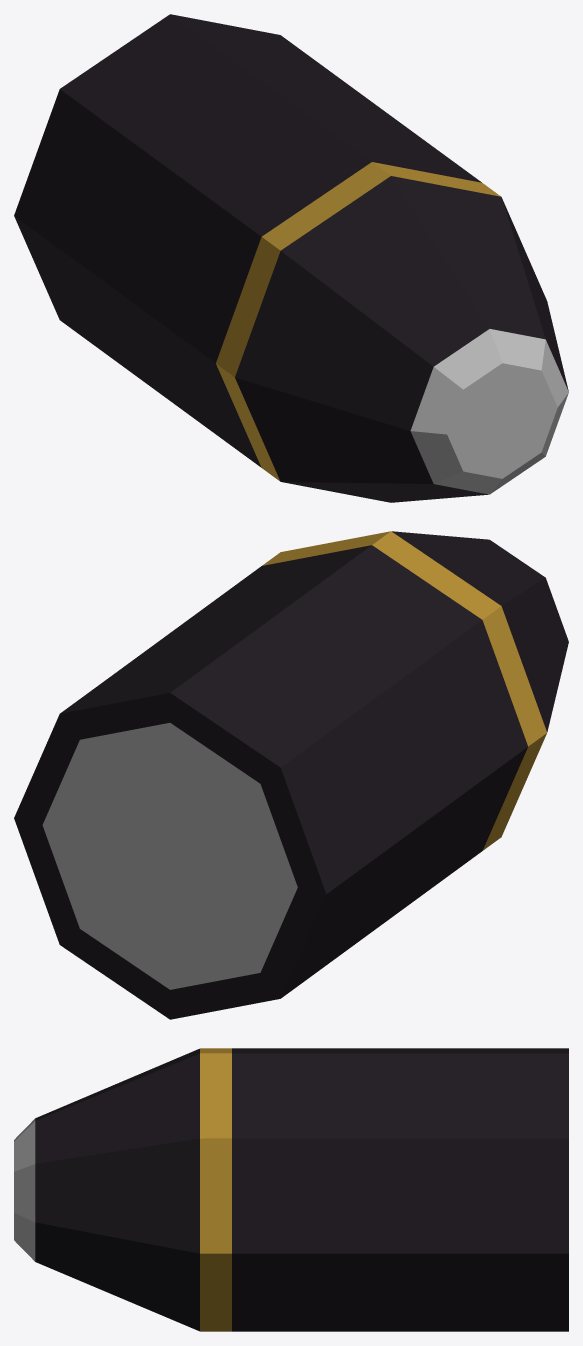
File: Pistol Bullet.fbx
3 views of the same model, one above another, from view 1: azimuth 30°, elevation 25°; view 2: azimuth 150°, elevation 25°; view 3: azimuth 270°, elevation 25° (orthographic). The views are drawn at different scales.
Parts seen in each view (by area): view 1: Cylinder; view 2: Cylinder; view 3: Cylinder.
Boxes of the visible parts, x1,y1,x2,y2 form: Cylinder: (14, 14, 568, 502); Cylinder: (14, 531, 568, 1019); Cylinder: (14, 1048, 568, 1331).
Size of the model in its own units: 34.87 by 34.88 by 64.23.
